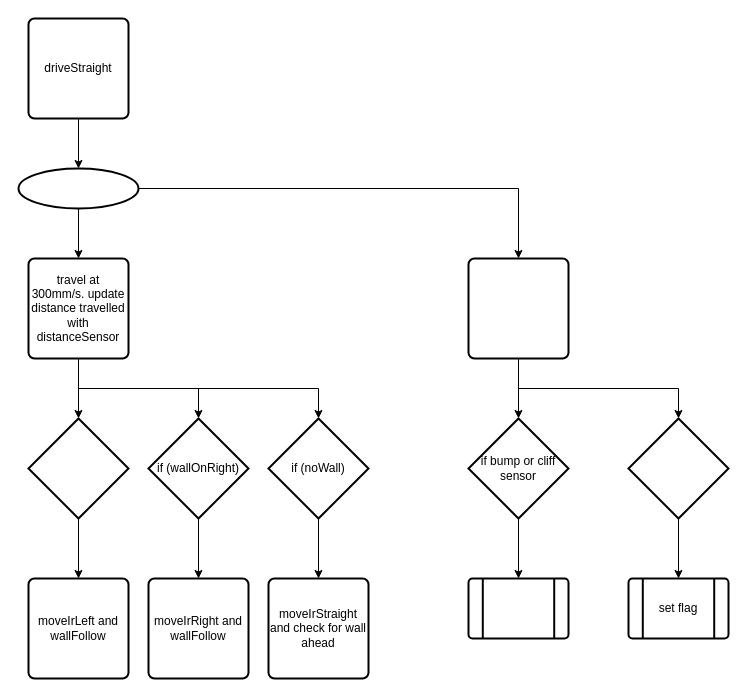
The diagram is 746 pixels wide and 696 high, and some of its shapes have lost their labels. Here are the shapes that lost their labels. From the top down, the box of each, then its label:
(17, 167, 139, 209): while distance < 1m
(467, 257, 569, 359): check all sensors bump cliff virtual wall victim
(27, 417, 129, 519): if (wallOnleft)
(627, 417, 729, 519): if victim or wall
(467, 577, 569, 639): turn 180 and travel 500cm
